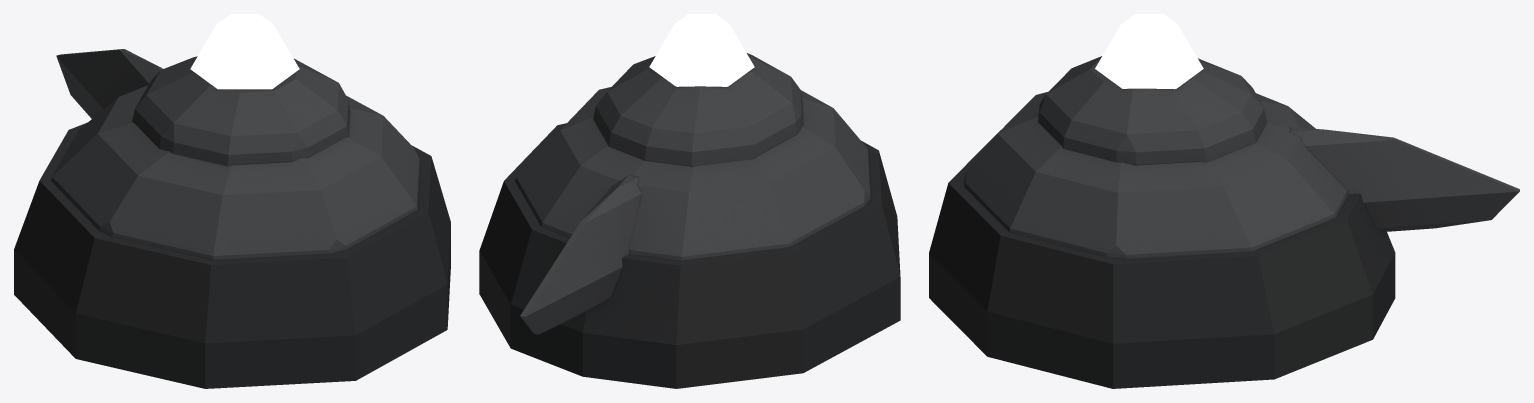
Rendered from armor_knee_ebony.glb.
3 renders of one model, left to right at view 1: azimuth 30°, elevation 25°; view 2: azimuth 150°, elevation 25°; view 3: azimuth 270°, elevation 25°, orthographic. The views are drawn at different scales.
Parts seen in each view (by area): view 1: elbow; view 2: elbow; view 3: elbow.
Boxes of the visible parts, x1,y1,x2,y2 form: elbow: [14, 14, 450, 388]; elbow: [479, 14, 900, 388]; elbow: [929, 14, 1519, 388].
Bounding box in the file's own units: 0.1438 × 0.1008 × 0.1974.
3 materials, 3 textured.
